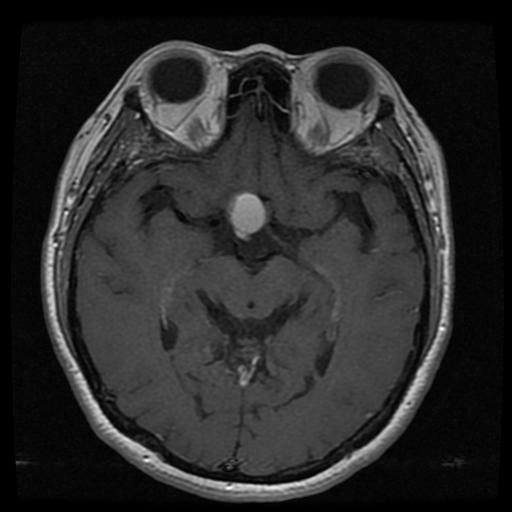Tumour-Pituitary: (207, 189, 280, 246)
